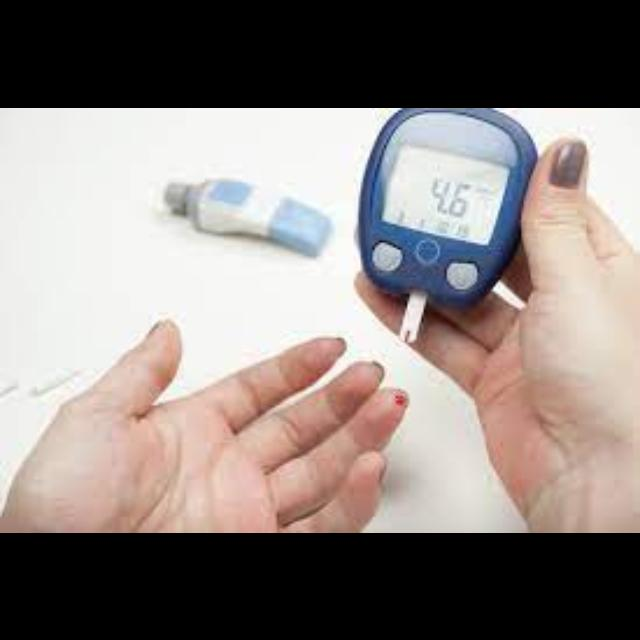Glucose-Meter: (359, 107, 537, 341)
